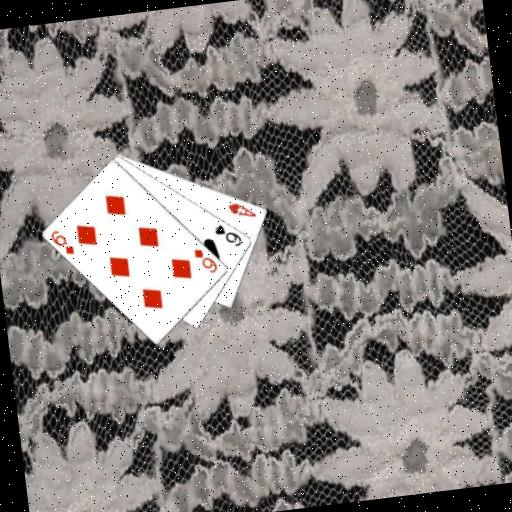6D: (47, 226, 77, 259), (191, 244, 220, 277)
6S: (211, 220, 244, 251)
AH: (224, 198, 258, 222)
